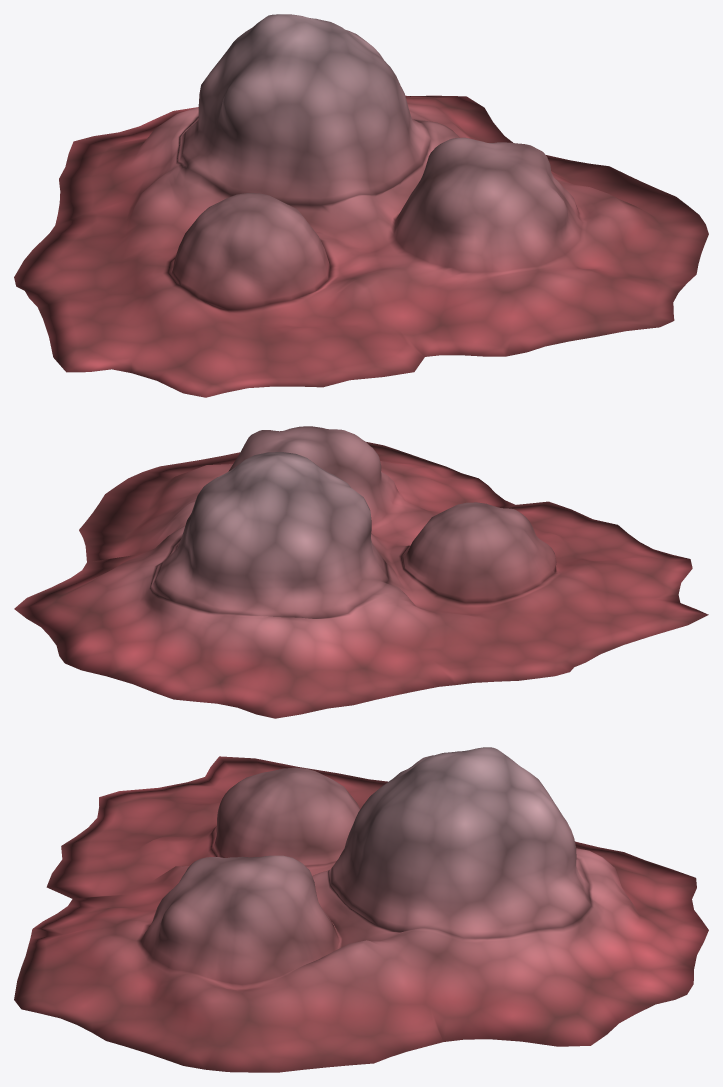
Rendered from Spore 4.fbx.
3 views of the same model, one above another, from view 1: azimuth 30°, elevation 25°; view 2: azimuth 150°, elevation 25°; view 3: azimuth 270°, elevation 25° (orthographic). The views are drawn at different scales.
Parts seen in each view (by area): view 1: Spore 3.003; view 2: Spore 3.003; view 3: Spore 3.003.
Boxes of the visible parts, x1,y1,x2,y2 form: Spore 3.003: (14,14,708,397); Spore 3.003: (14,426,708,718); Spore 3.003: (14,747,708,1072).
Size of the model in its own units: 324 by 85.83 by 303.
